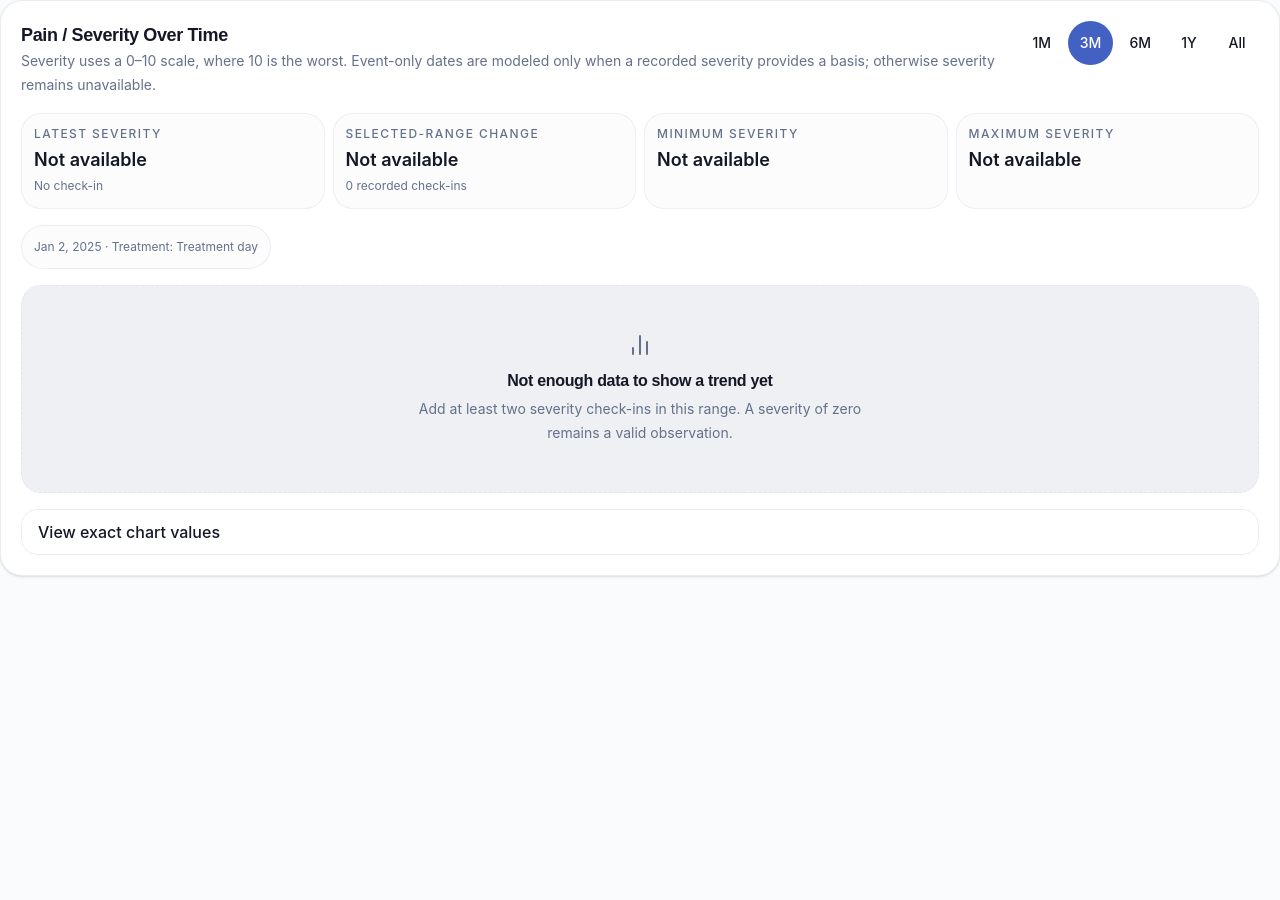
Test: SeverityChart › keeps event-only severity unavailable without inventing a zero
Click the heading "View exact chart values" at (129, 532), box [38, 522, 220, 542]
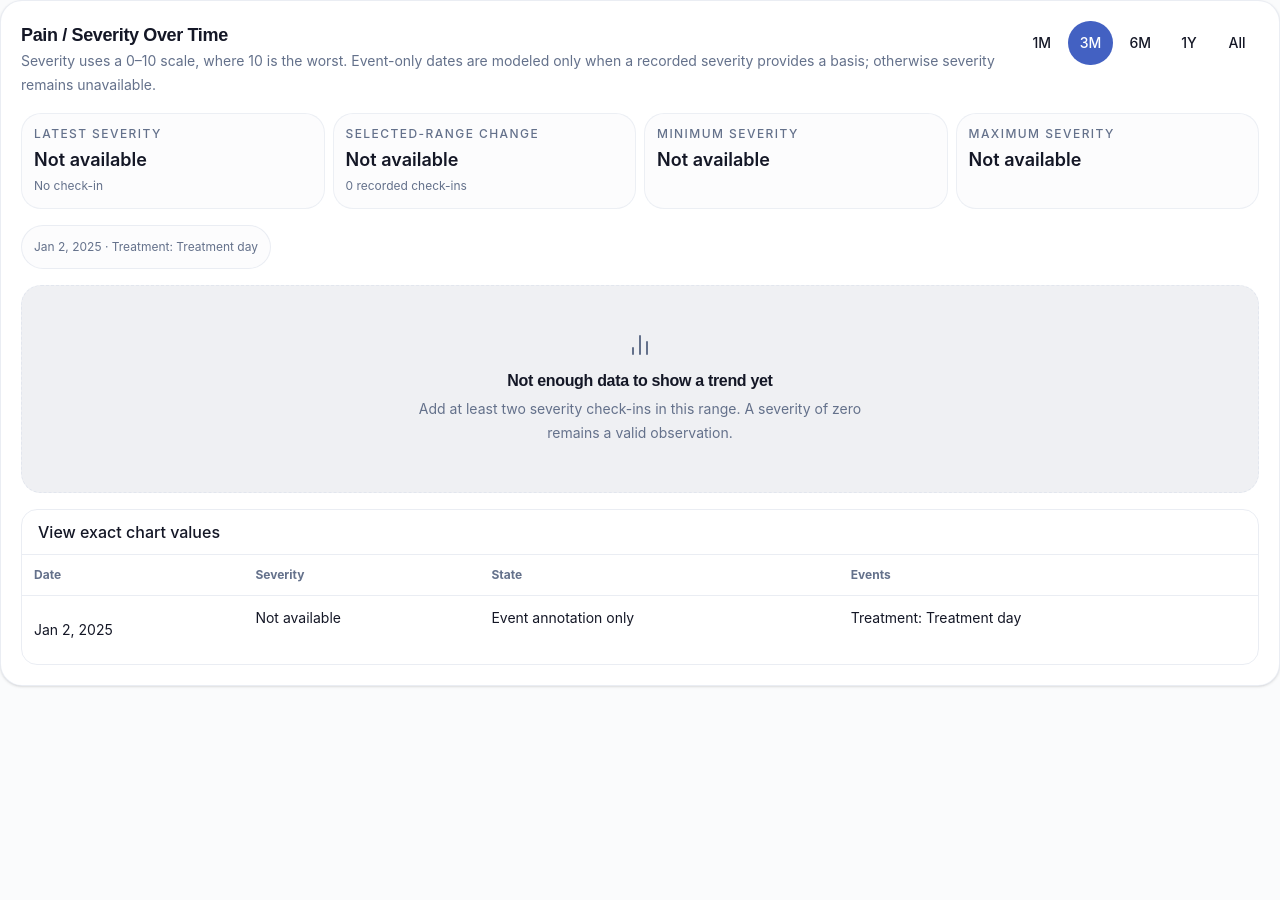
Expected: the row "Jan 2, 2025" does not show "0 / 10", [22, 596, 1258, 664]
Expected: the row "Jan 2, 2025" shows "Not available", [255, 609, 341, 626]
